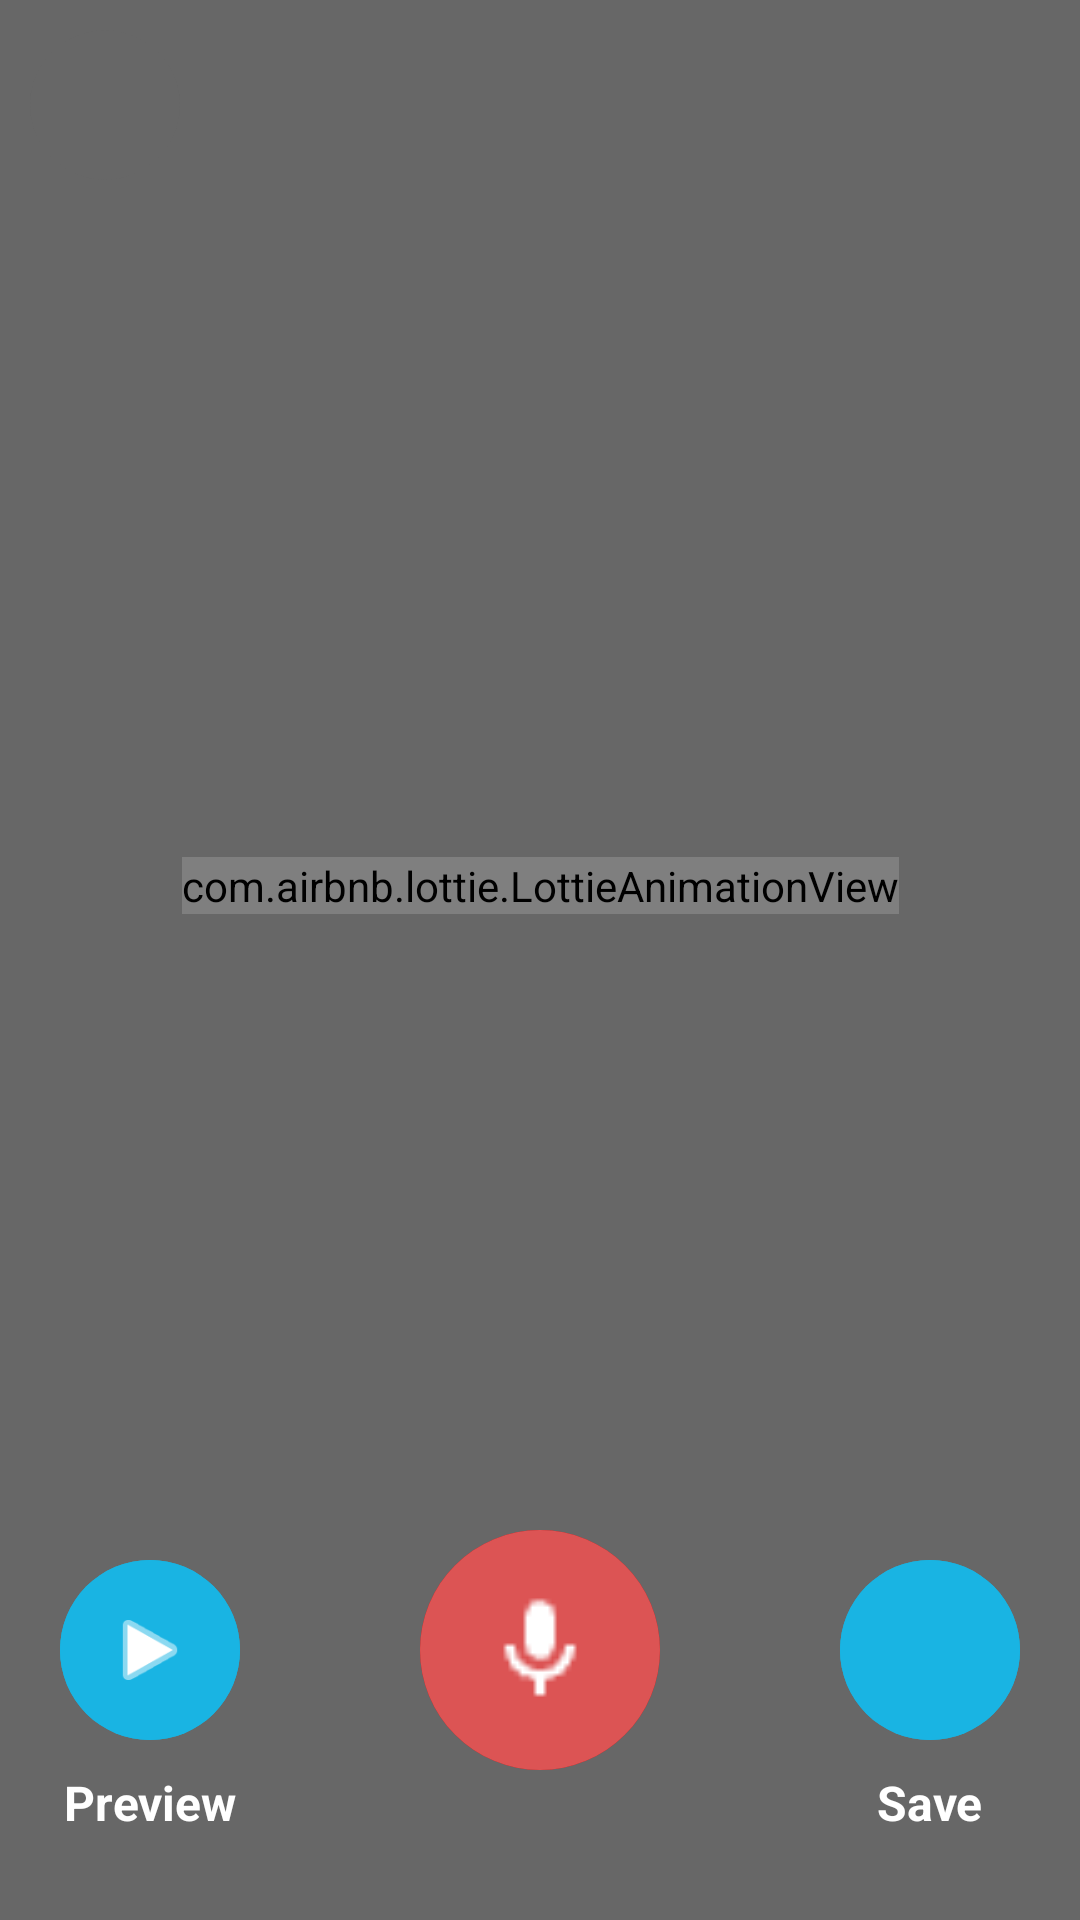

Where icons sit on this 1080x1920 app screen, as (x1, y1, x2, y2):
mic: (420, 1530, 660, 1770)
play: (60, 1560, 240, 1740)
